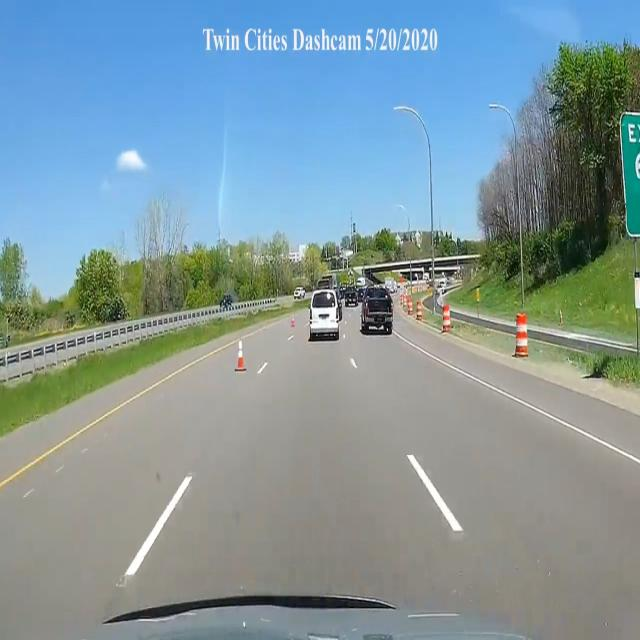Traffic Cone: (232, 342, 250, 372)
